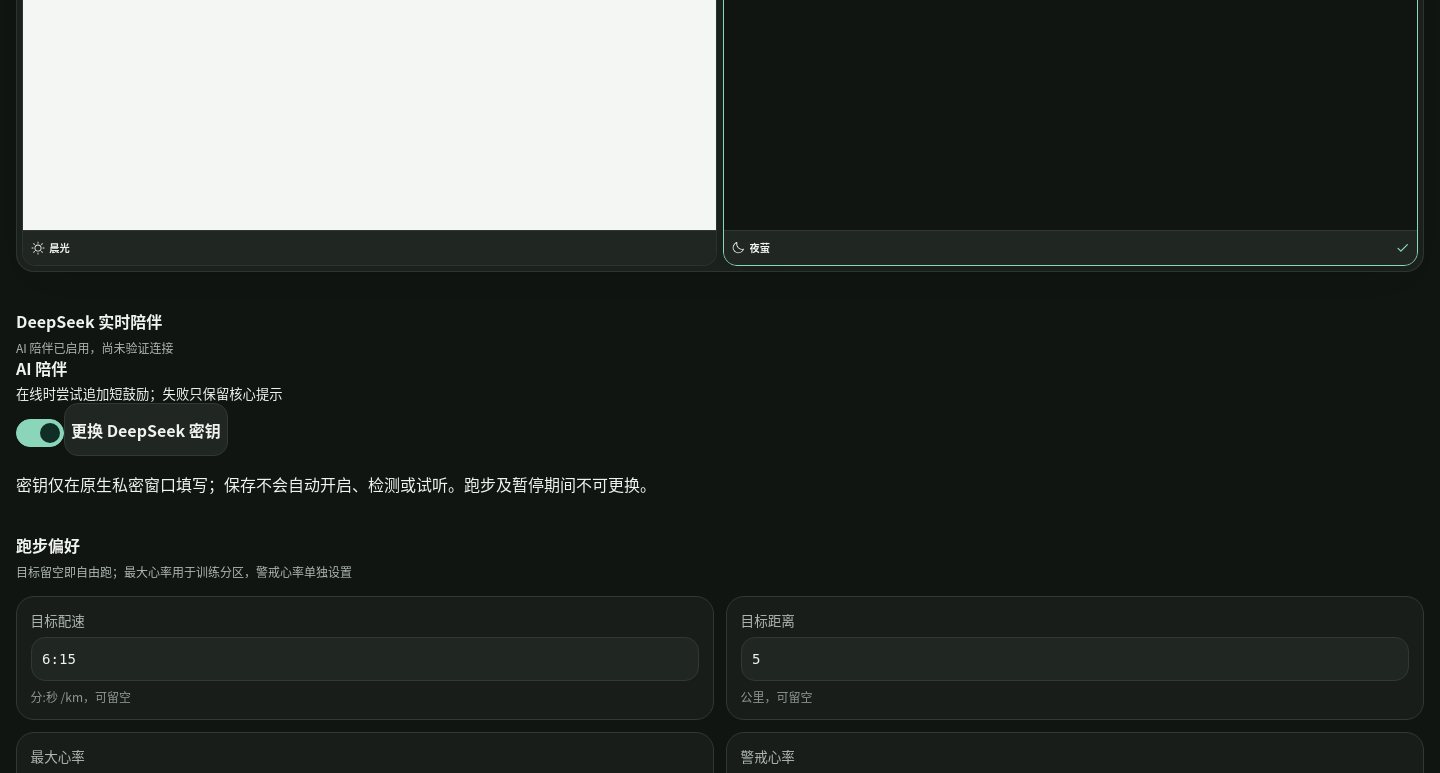
Test case: 真实本地设置 › 在 running 状态禁更换但可立即关闭 AI
This screenshot has width=1440, height=773.
(page scrolled)
Expected: the text "AI 陪伴已启用，尚未验证连接" is shown, [16, 339, 174, 356]
Expected: the button "更换 DeepSeek 密钥" is disabled, [64, 404, 228, 456]
Click the checkbox labelled "AI 陪伴 在线时尝试追加短鼓励；失败只保留核心提示". click: (16,356)
box: [16, 356, 283, 446]
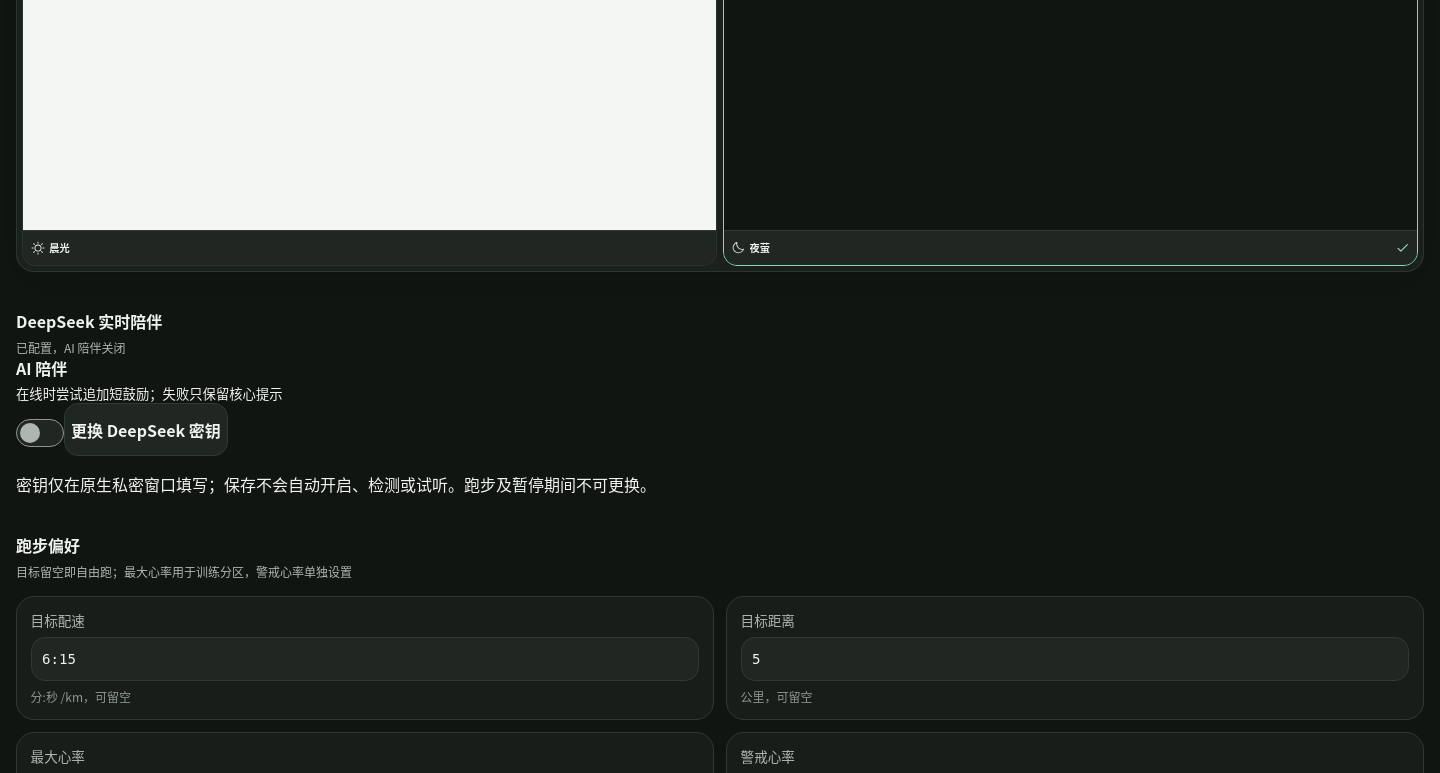
Result: the text "已配置，AI 陪伴关闭" is shown at [16, 339, 126, 356]
